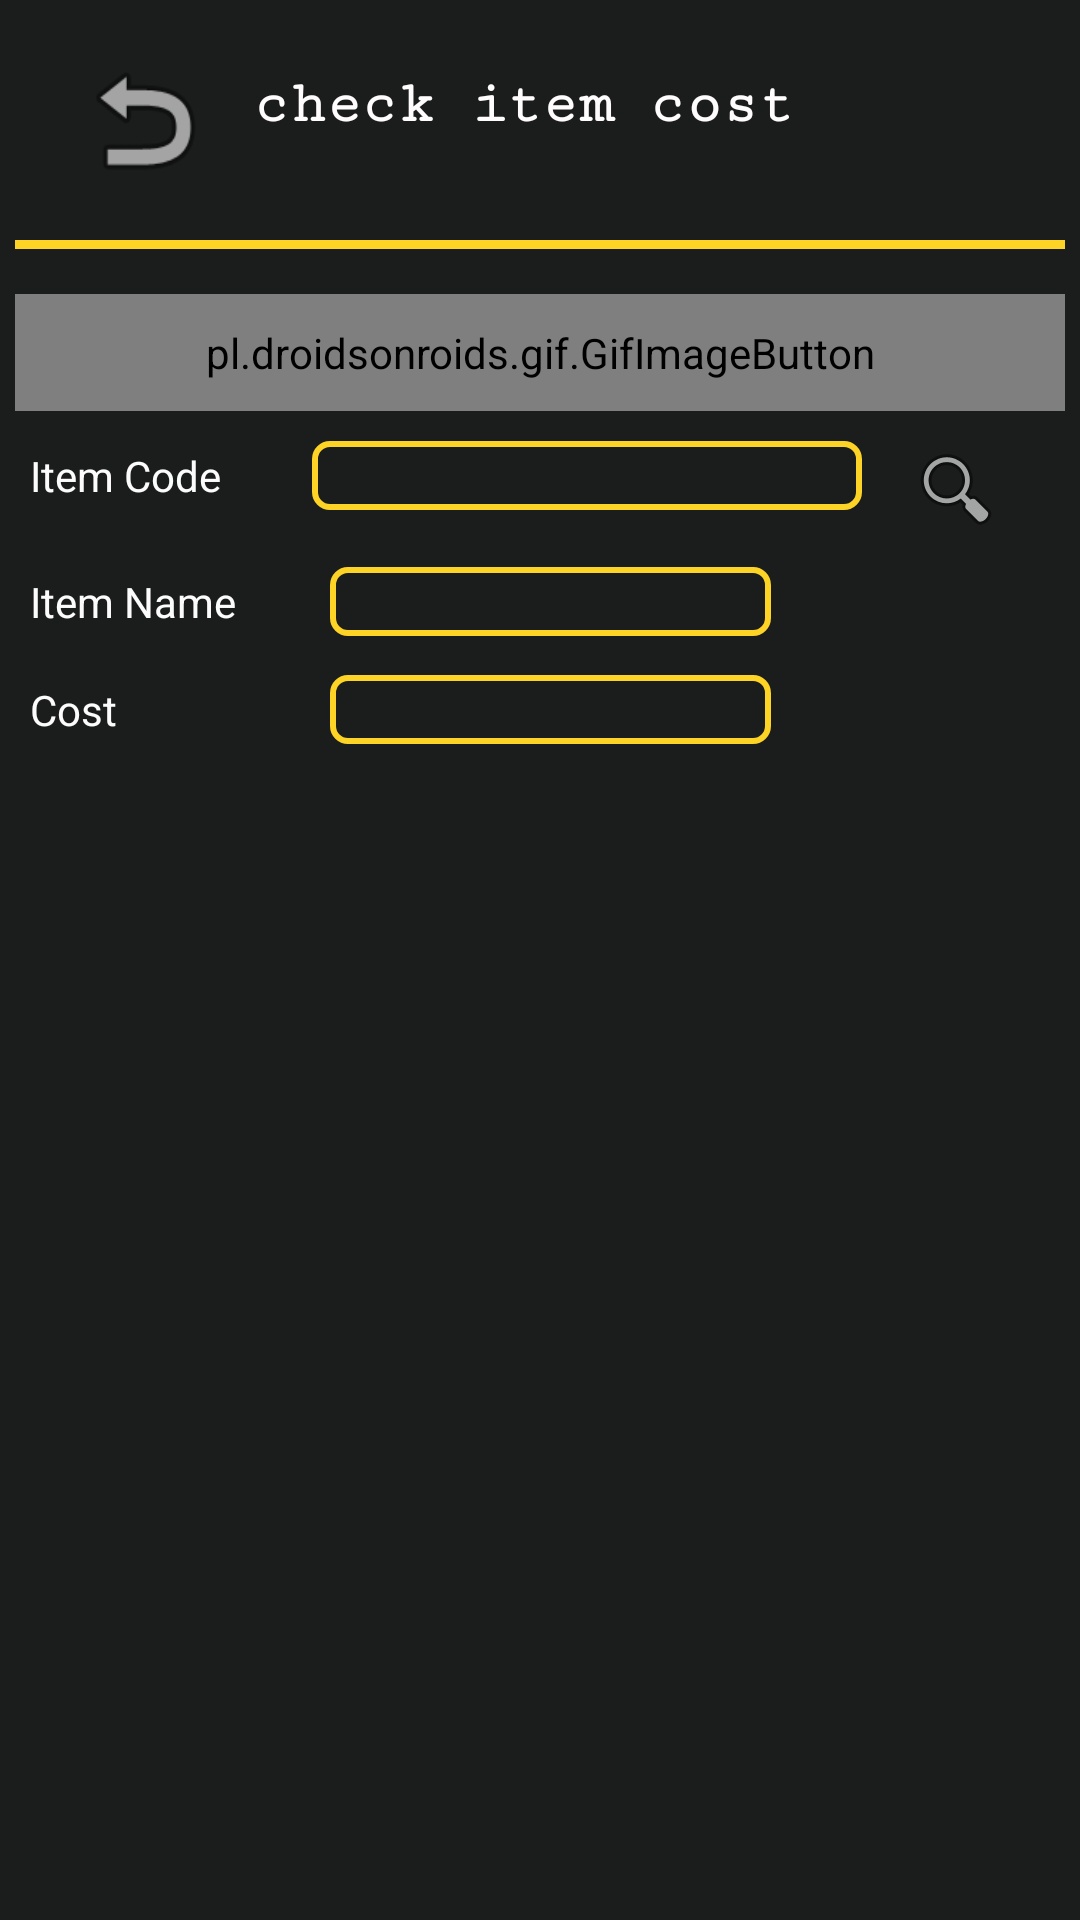

Icons on this 1080*1920 Android screen, each with its box as (x1, y1, x2, y2):
revert: (100, 77, 191, 165)
search: (924, 457, 988, 522)
